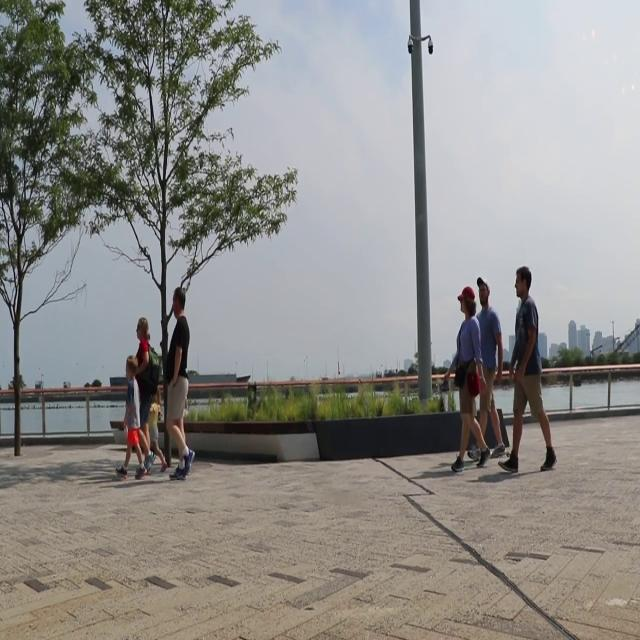normal: (498, 266, 560, 474), (162, 287, 204, 489), (452, 286, 494, 469)
